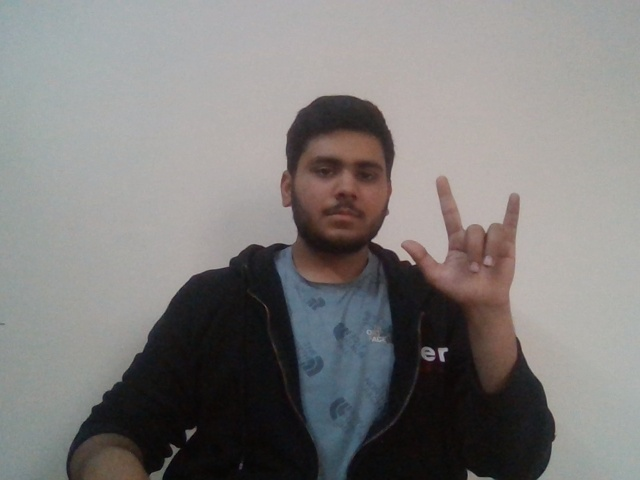IloveYou: (395, 174, 533, 301)
